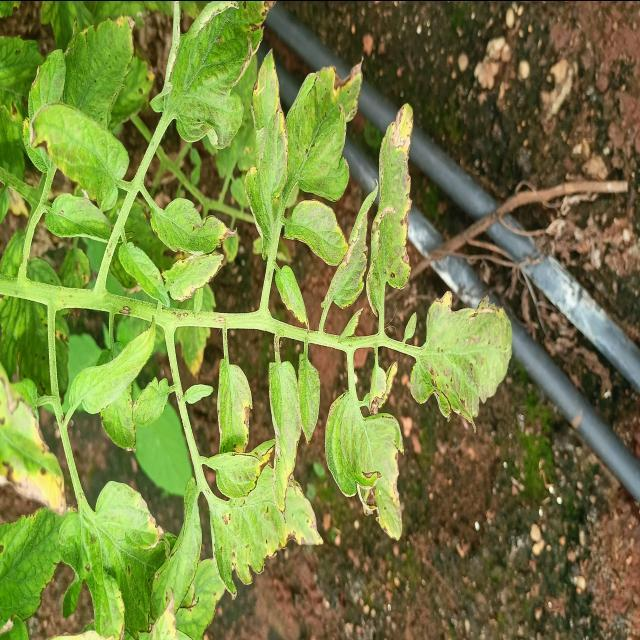Tomato mosaic virus leaf: (408, 290, 513, 422), (213, 483, 325, 598), (366, 100, 415, 294), (348, 406, 406, 544), (191, 1, 278, 71)
